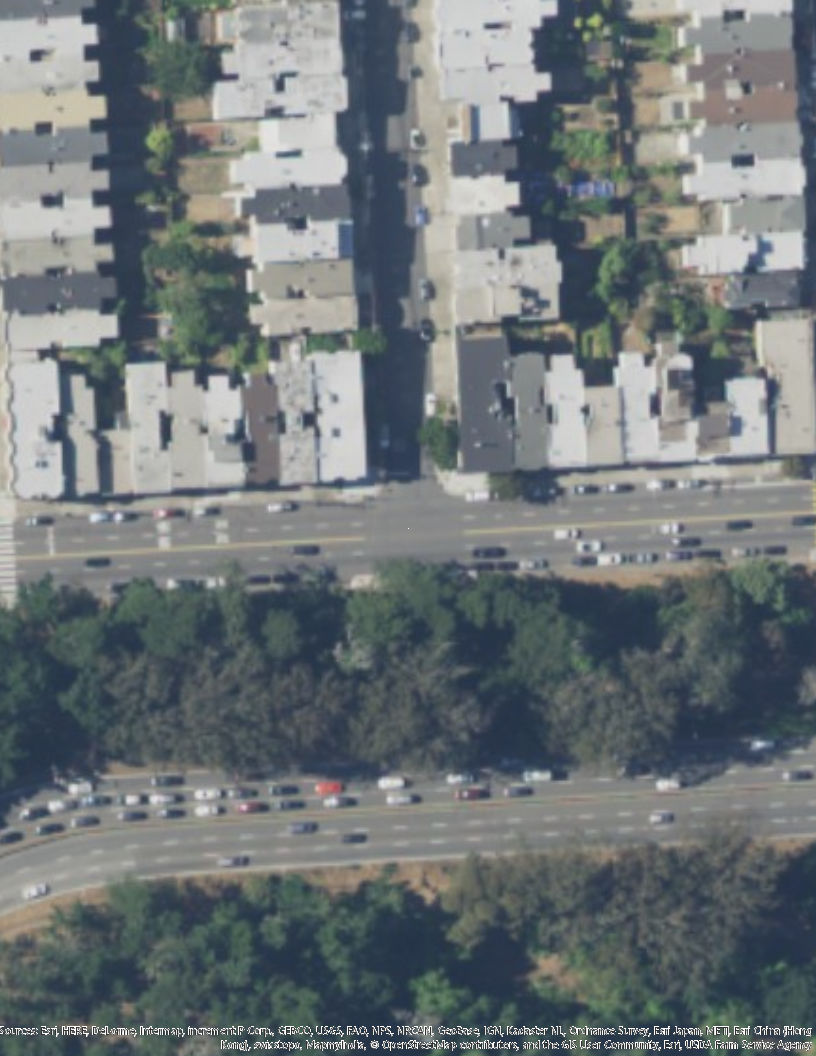zebracross: (1, 514, 15, 605)
